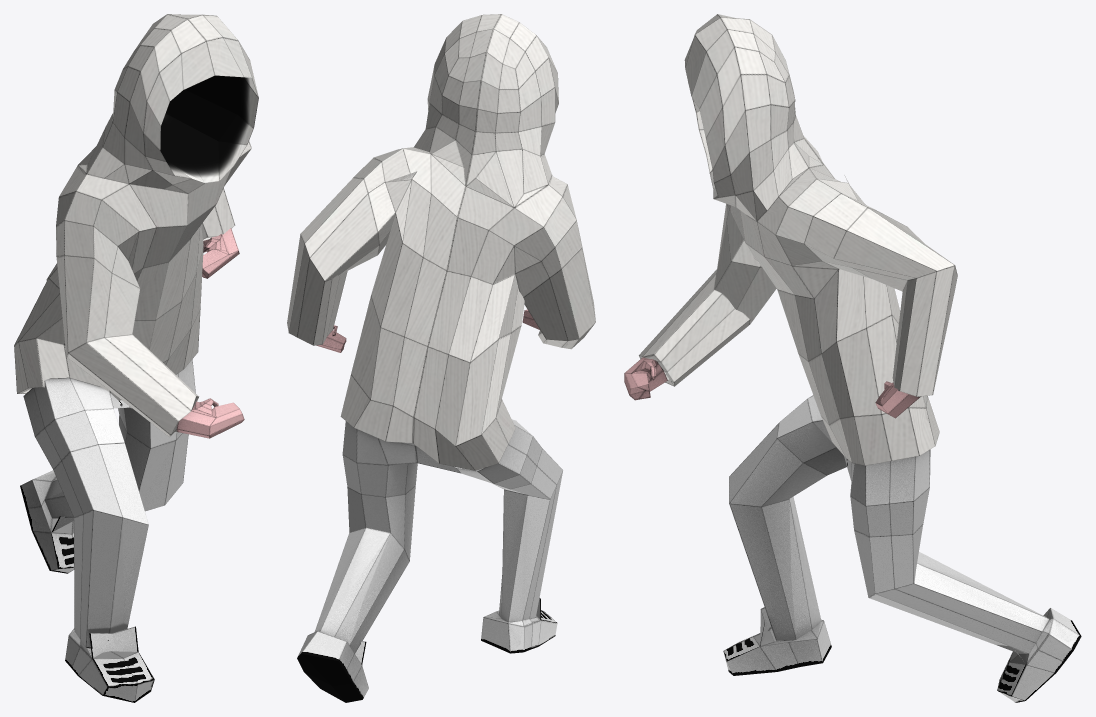
Rendered from Shadowmanv_000003.obj.
The picture shows the model from 3 angles, left to right: view 1: azimuth 30°, elevation 25°; view 2: azimuth 150°, elevation 25°; view 3: azimuth 270°, elevation 25°; orthographic projection. The views are drawn at different scales.
Parts seen in each view (by area): view 1: Cube.000; view 2: Cube.000; view 3: Cube.000.
Boxes of the visible parts, x1,y1,x2,y2 form: Cube.000: (14, 14, 258, 702); Cube.000: (287, 14, 595, 702); Cube.000: (624, 14, 1081, 702).
Bounding box in the file's own units: 4.28 × 10.84 × 6.62.
